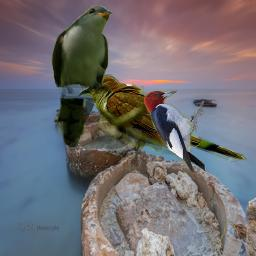Cuckoo: (78, 74, 247, 162), (51, 5, 112, 147)
Woodpecker: (142, 87, 209, 174)
